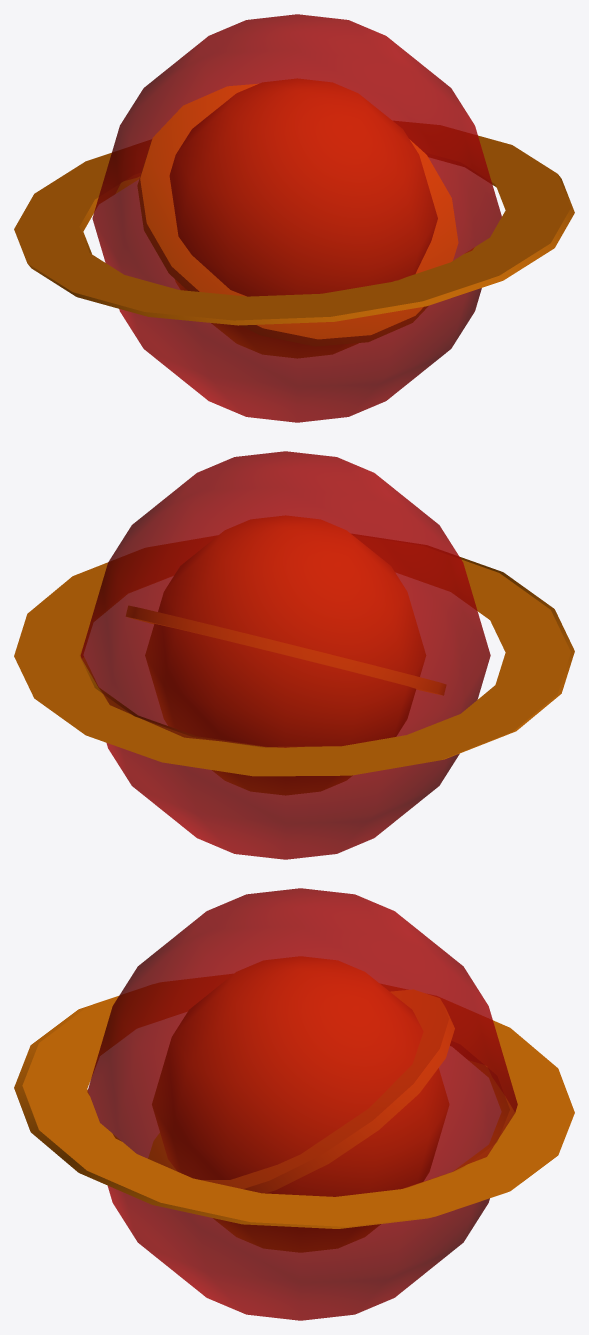
File: EnemyBullet.obj
3 views of the same model, one above another, from view 1: azimuth 30°, elevation 25°; view 2: azimuth 150°, elevation 25°; view 3: azimuth 270°, elevation 25° (orthographic). The views are drawn at different scales.
Parts seen in each view (by area): view 1: Sphere001, Sphere002, Tube001, Tube002; view 2: Sphere001, Sphere002, Tube001, Tube002; view 3: Sphere001, Sphere002, Tube001, Tube002.
Part boxes in pixels (x1=…): Sphere001: x1=92, y1=14, x2=501, y2=422; Sphere002: x1=170, y1=78, x2=437, y2=358; Tube001: x1=14, y1=121, x2=574, y2=325; Tube002: x1=137, y1=84, x2=458, y2=346; Sphere001: x1=80, y1=451, x2=490, y2=859; Sphere002: x1=145, y1=515, x2=425, y2=795; Tube001: x1=14, y1=534, x2=574, y2=776; Tube002: x1=126, y1=606, x2=446, y2=695; Sphere001: x1=87, y1=888, x2=517, y2=1320; Sphere002: x1=152, y1=956, x2=449, y2=1252; Tube001: x1=14, y1=974, x2=574, y2=1228; Tube002: x1=148, y1=989, x2=454, y2=1193.
Bounding box in the file's own units: 64.18 × 46.99 × 60.71.
